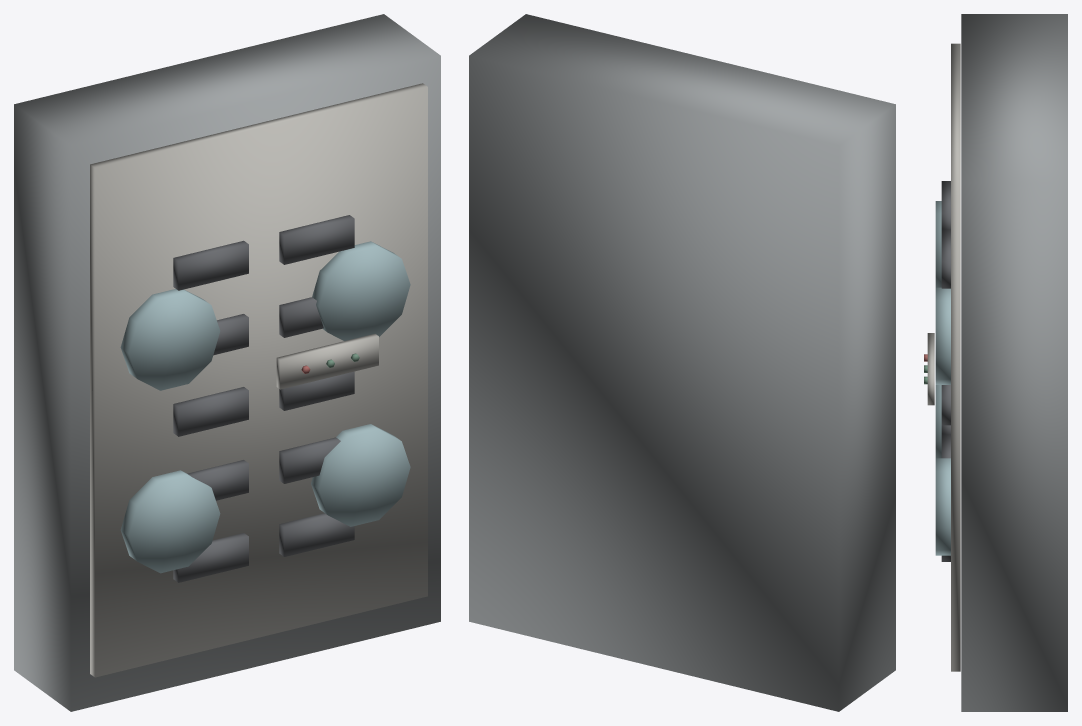
Rendered from meter_bank__reinforced.glb.
The picture shows the model from 3 angles, left to right: view 1: azimuth 30°, elevation 25°; view 2: azimuth 150°, elevation 25°; view 3: azimuth 270°, elevation 25°; orthographic projection. The views are drawn at different scales.
Parts seen in each view (by area): view 1: world; view 2: world; view 3: world.
Boxes of the visible parts, x1=… form: world: x1=14, y1=14, x2=440, y2=711; world: x1=469, y1=14, x2=895, y2=711; world: x1=924, y1=14, x2=1067, y2=711.
Size of the model in its own units: 1.08 by 1.58 by 0.3899.
